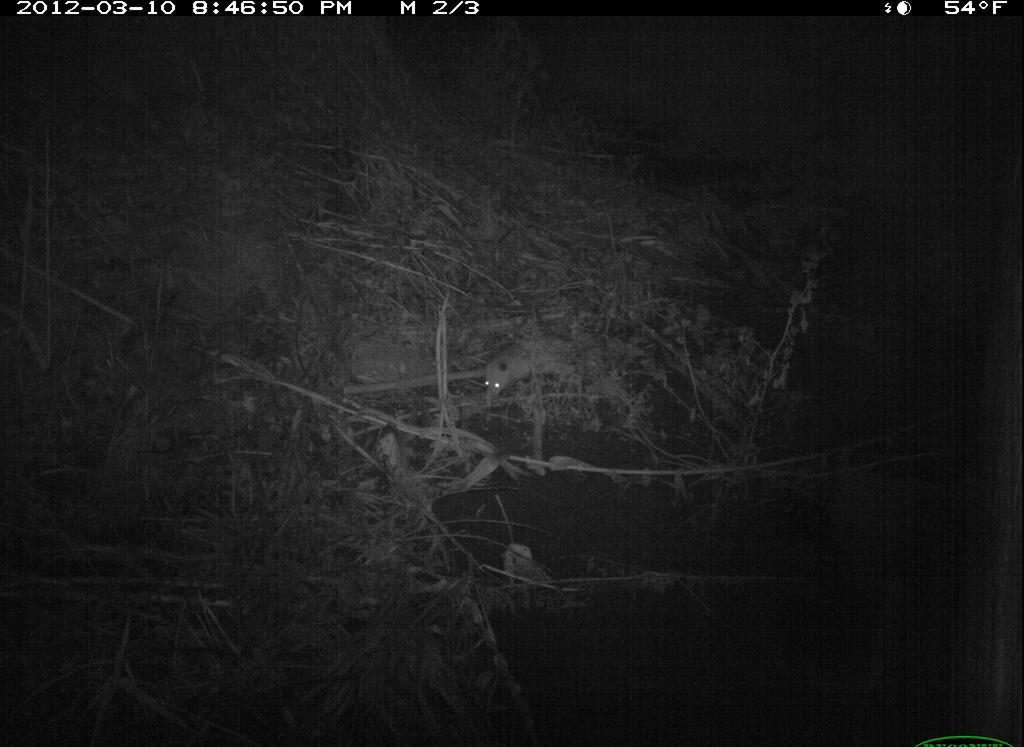opossum: (474, 337, 601, 408)
